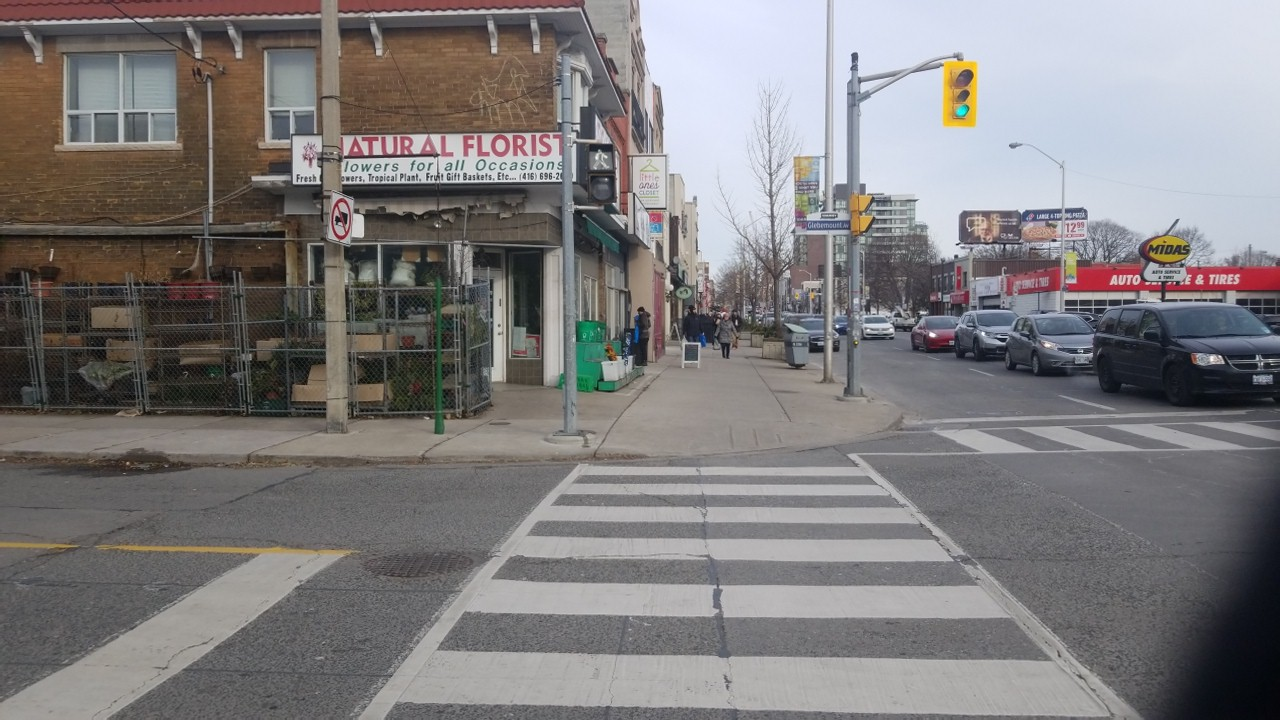light: (583, 139, 617, 207)
